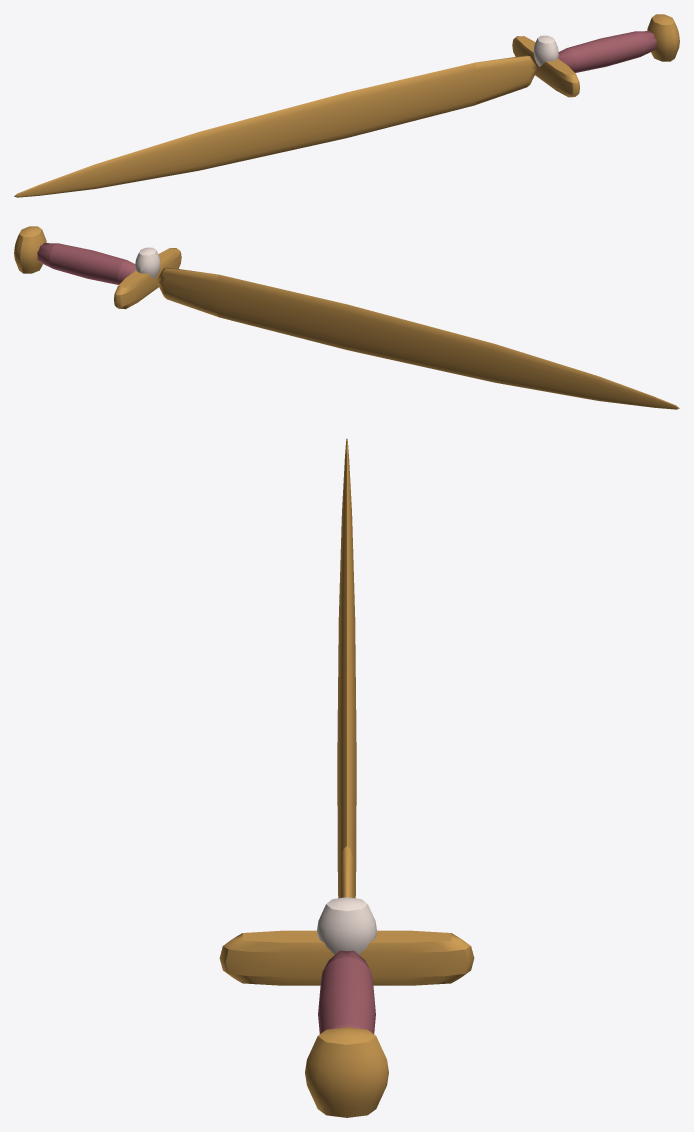
The model's file is weapon_greatsword.glb.
3 renders of one model, top to bottom at view 1: azimuth 30°, elevation 25°; view 2: azimuth 150°, elevation 25°; view 3: azimuth 270°, elevation 25°, orthographic. The views are drawn at different scales.
Parts seen in each view (by area): view 1: weapon_greatsword; view 2: weapon_greatsword; view 3: weapon_greatsword.
Part boxes in pixels (bbox=[...]): weapon_greatsword: bbox=[14, 14, 679, 197]; weapon_greatsword: bbox=[14, 226, 679, 409]; weapon_greatsword: bbox=[219, 438, 474, 1117].
Bounding box in the file's own units: 1.29 × 0.0965 × 0.2147.
